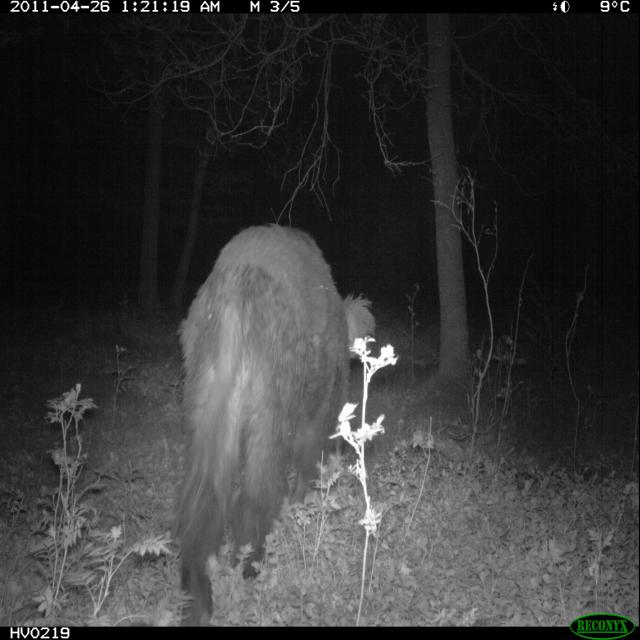boar: (142, 197, 387, 596)
